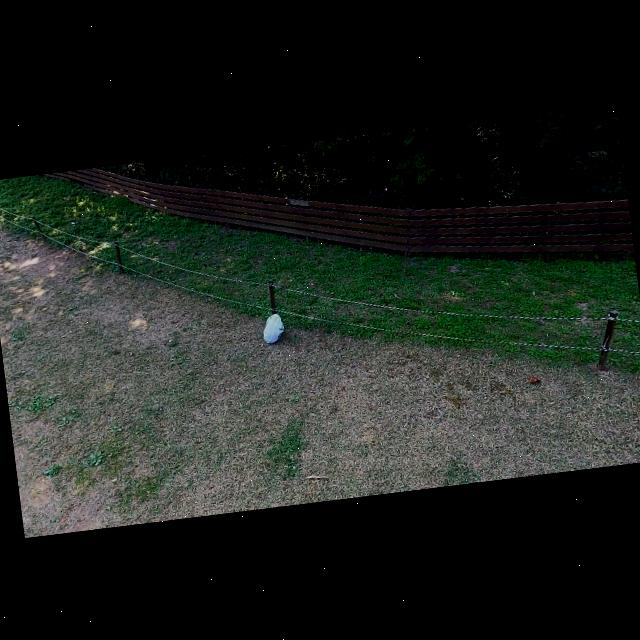trash: (256, 309, 288, 347)
